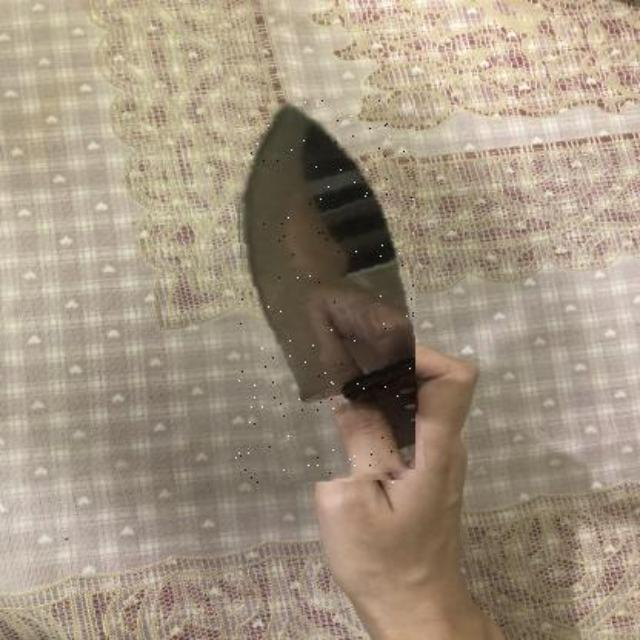Knife: (235, 99, 415, 483)
